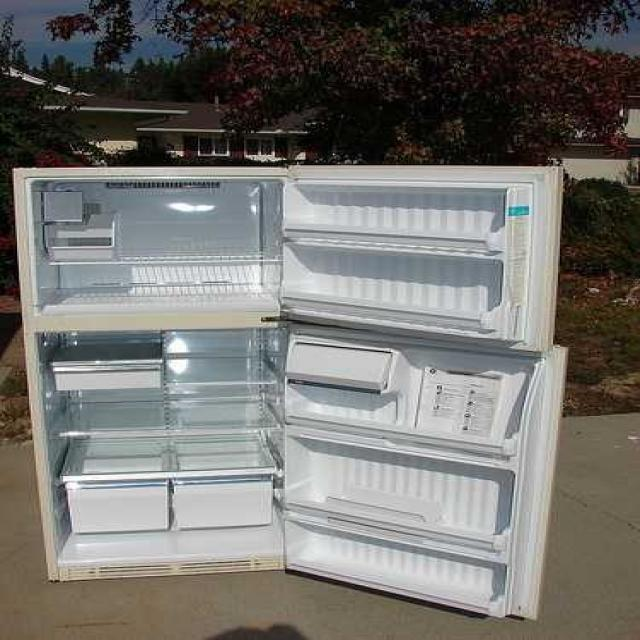refrigerator: (15, 168, 522, 579)
